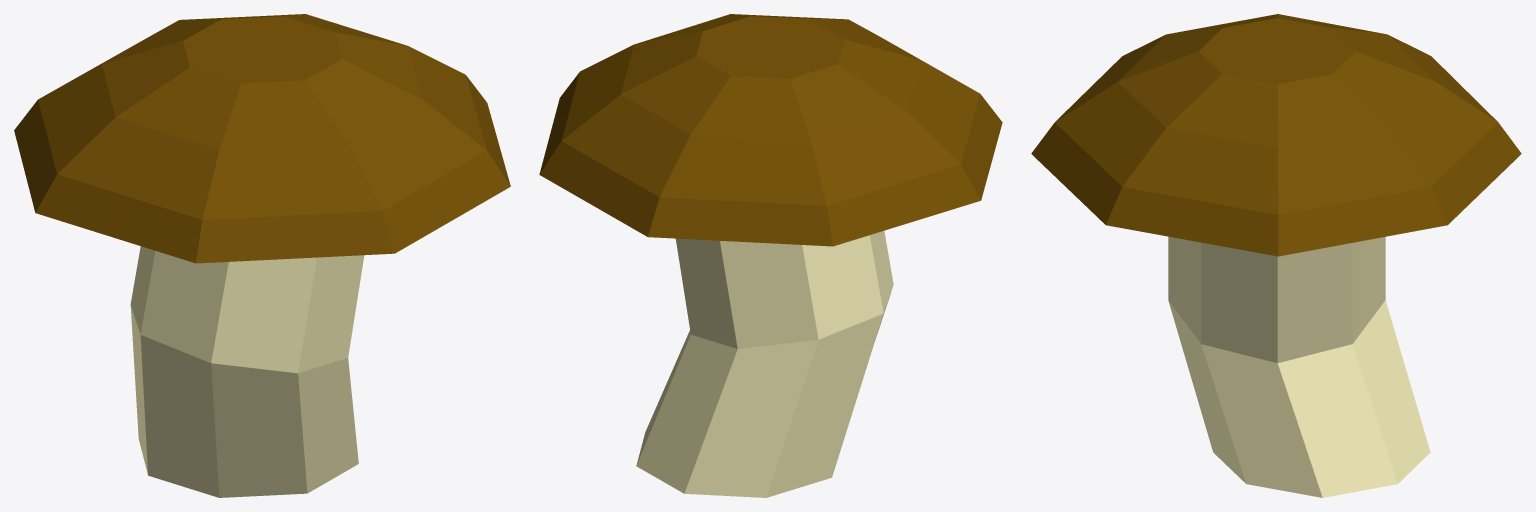
Rendered from Lowpoly_Mushroom_Brown_03.fbx.
The picture shows the model from 3 angles, left to right: view 1: azimuth 30°, elevation 25°; view 2: azimuth 150°, elevation 25°; view 3: azimuth 270°, elevation 25°; orthographic projection. The views are drawn at different scales.
Visible parts, largest first — view 1: Cube.006; view 2: Cube.006; view 3: Cube.006.
Part boxes in pixels (x1=…): Cube.006: x1=14, y1=14, x2=510, y2=497; Cube.006: x1=539, y1=14, x2=1002, y2=497; Cube.006: x1=1031, y1=14, x2=1521, y2=497.
Size of the model in its own units: 386 by 344 by 386.
